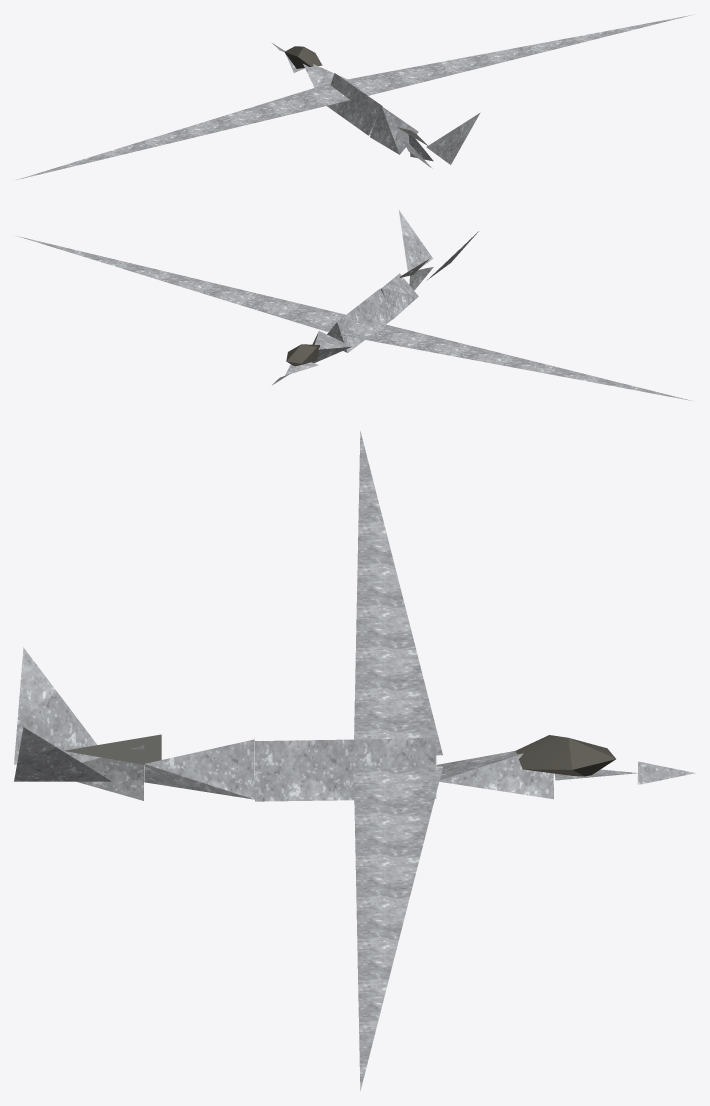
Rendered from uav_e5_us_recon_LOD2.glb.
3 views of the same model, one above another, from view 1: azimuth 30°, elevation 25°; view 2: azimuth 150°, elevation 25°; view 3: azimuth 270°, elevation 25° (orthographic). The views are drawn at different scales.
Parts seen in each view (by area): view 1: uav_e5_us_recon_LOD2_body, uav_e5_us_recon_LOD2_deck; view 2: uav_e5_us_recon_LOD2_body, uav_e5_us_recon_LOD2_deck; view 3: uav_e5_us_recon_LOD2_body, uav_e5_us_recon_LOD2_deck, uav_e5_us_recon_LOD2_gun.
Boxes of the visible parts, x1,y1,x2,y2 form: uav_e5_us_recon_LOD2_body: [17, 14, 693, 179]; uav_e5_us_recon_LOD2_deck: [284, 46, 322, 68]; uav_e5_us_recon_LOD2_body: [17, 210, 693, 401]; uav_e5_us_recon_LOD2_deck: [286, 344, 319, 366]; uav_e5_us_recon_LOD2_body: [14, 431, 695, 1090]; uav_e5_us_recon_LOD2_deck: [516, 735, 615, 777]; uav_e5_us_recon_LOD2_gun: [63, 734, 161, 764].
Size of the model in its own units: 35.03 by 2.79 by 15.26.
3 materials, 1 textured.
